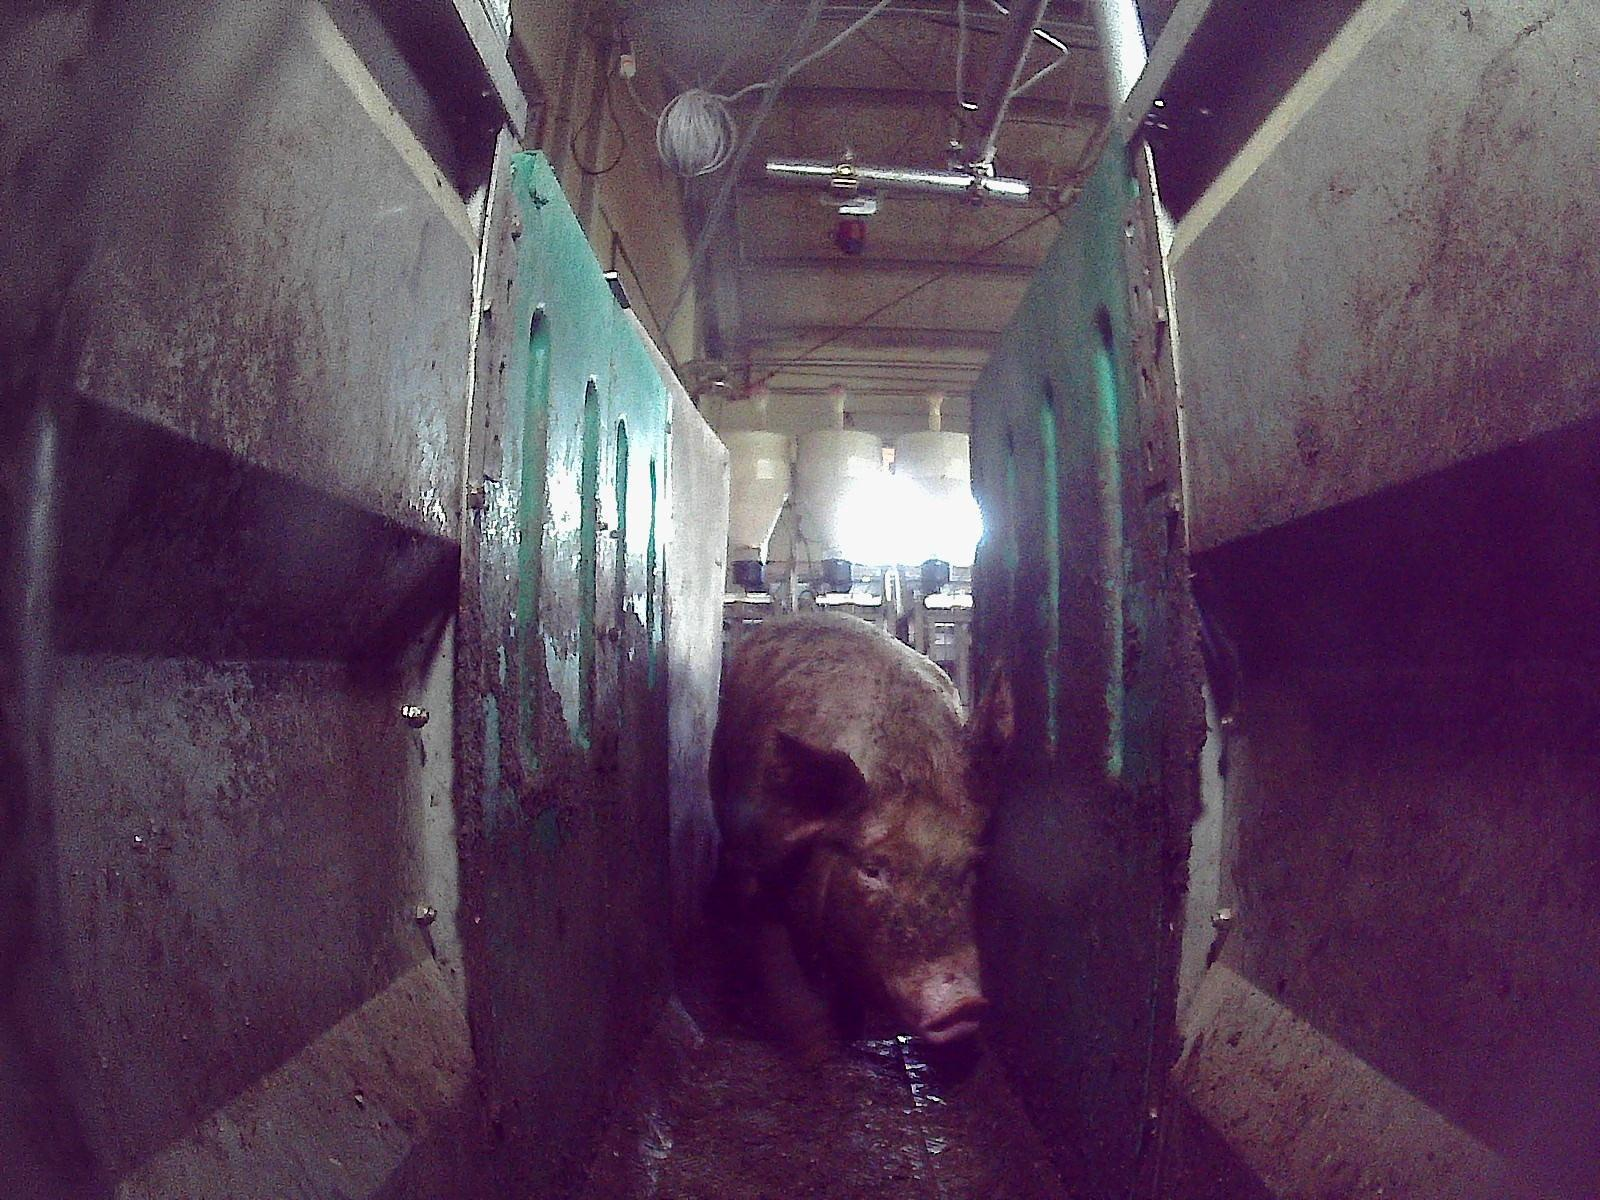Face: (810, 771, 990, 1044)
